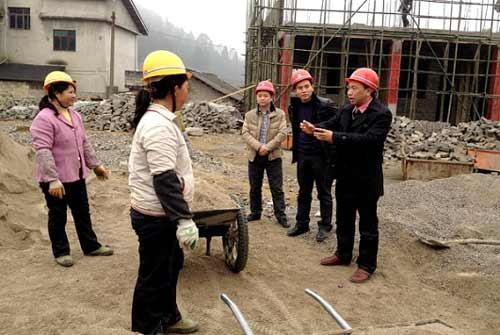red: (344, 64, 378, 106), (289, 66, 315, 100), (253, 79, 275, 110)
yellow: (140, 49, 191, 115), (41, 68, 77, 115)
